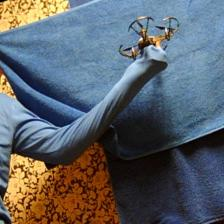drone: (118, 15, 180, 61)
